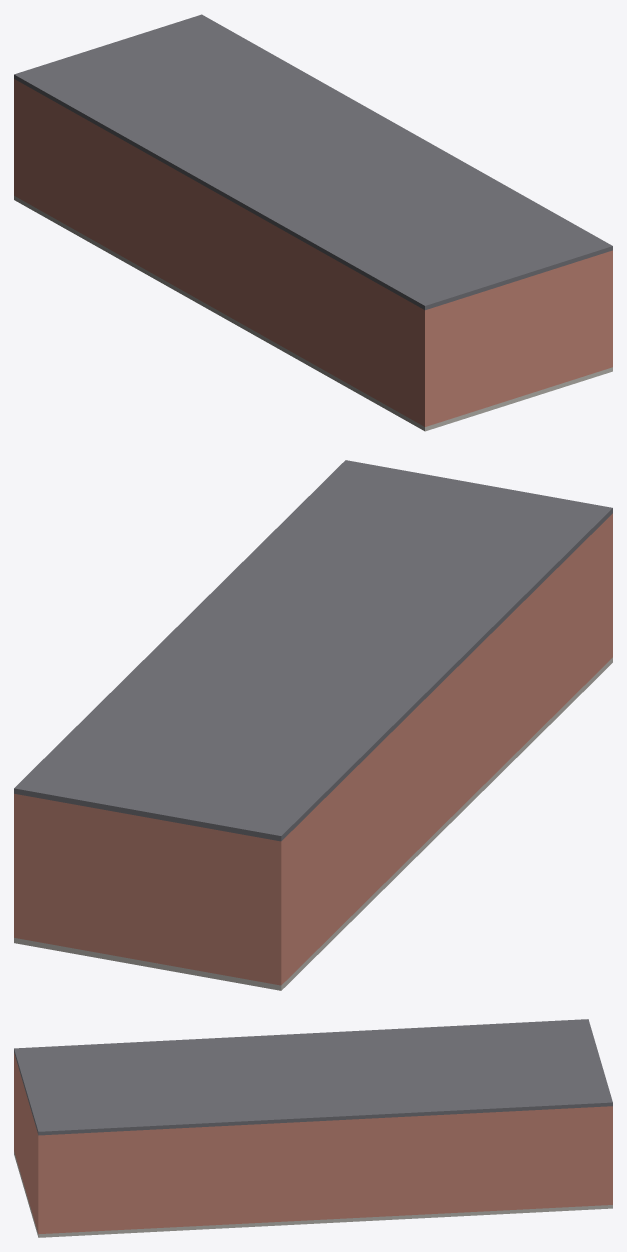
Rendered from bus_terminal.glb.
3 renders of one model, top to bottom at view 1: azimuth 30°, elevation 25°; view 2: azimuth 150°, elevation 25°; view 3: azimuth 270°, elevation 25°, orthographic. The views are drawn at different scales.
Visible parts, largest first — view 1: bus_terminal_roof, bus_terminal_walls, bus_terminal_plinth; view 2: bus_terminal_roof, bus_terminal_walls, bus_terminal_plinth; view 3: bus_terminal_walls, bus_terminal_roof, bus_terminal_plinth.
Part boxes in pixels (bbox=[...]): bus_terminal_roof: bbox=[14, 14, 612, 310]; bus_terminal_walls: bbox=[14, 79, 612, 426]; bus_terminal_plinth: bbox=[14, 196, 612, 431]; bus_terminal_roof: bbox=[14, 460, 612, 841]; bus_terminal_walls: bbox=[14, 513, 612, 985]; bus_terminal_plinth: bbox=[14, 657, 612, 990]; bus_terminal_walls: bbox=[14, 1053, 612, 1234]; bus_terminal_roof: bbox=[14, 1019, 612, 1135]; bus_terminal_plinth: bbox=[14, 1151, 612, 1237].
Bounding box in the file's own units: 19.59 × 8.59 × 44.
